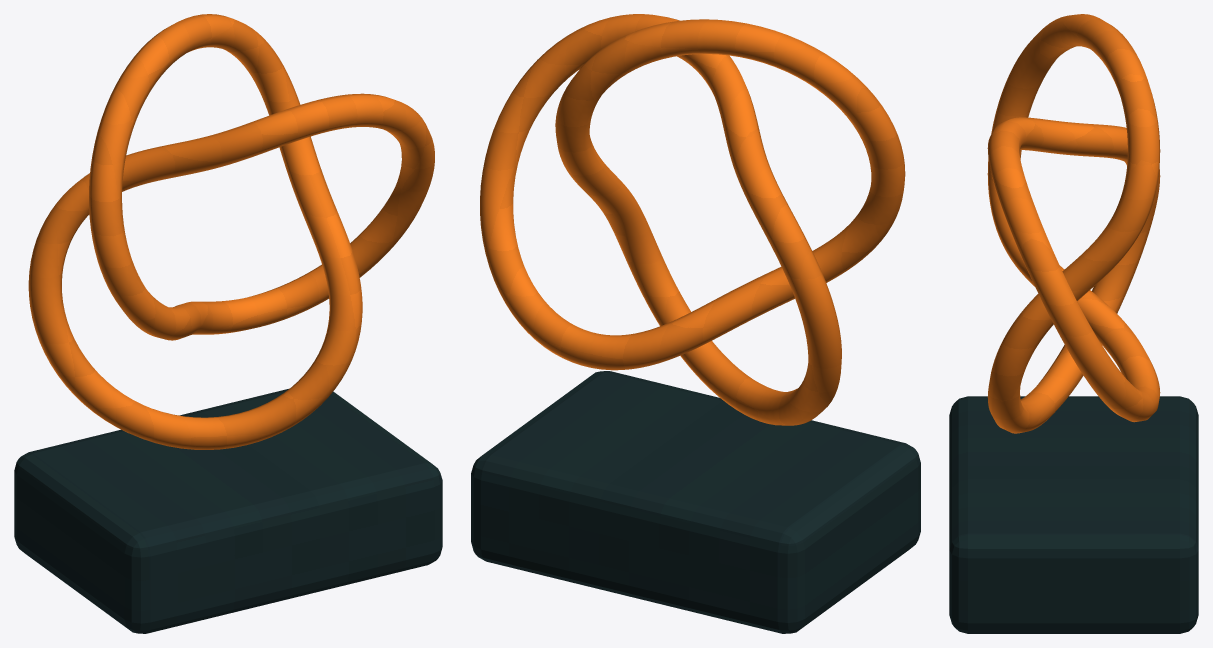
Rendered from connected_knot.gltf.
The picture shows the model from 3 angles, left to right: view 1: azimuth 30°, elevation 25°; view 2: azimuth 150°, elevation 25°; view 3: azimuth 270°, elevation 25°; orthographic projection. The views are drawn at different scales.
Visible parts, largest first — view 1: V14_connected_knot; view 2: V14_connected_knot; view 3: V14_connected_knot.
Boxes of the visible parts, x1,y1,x2,y2 form: V14_connected_knot: (14,14,442,633); V14_connected_knot: (471,14,920,633); V14_connected_knot: (949,14,1198,633).
Bounding box in the file's own units: 2.66 × 3.68 × 1.6.
2 materials, 2 textured.
